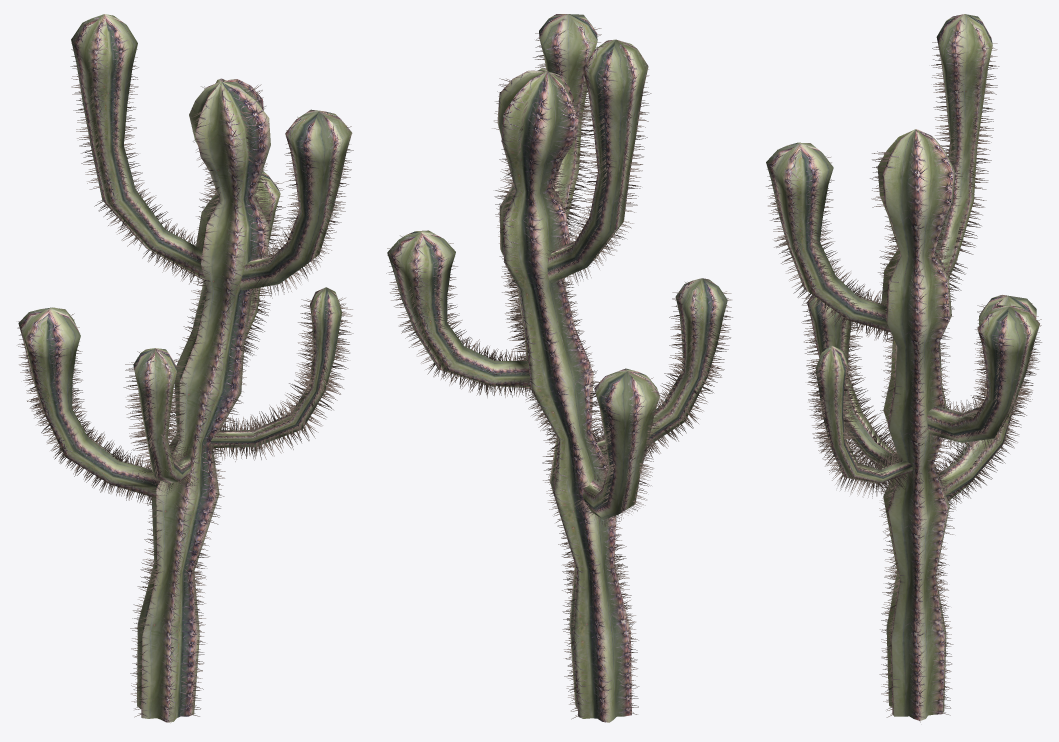
File: tree_cactus_a_03.fbx
The picture shows the model from 3 angles, left to right: view 1: azimuth 30°, elevation 25°; view 2: azimuth 150°, elevation 25°; view 3: azimuth 270°, elevation 25°; orthographic projection. The views are drawn at different scales.
Visible parts, largest first — view 1: Tree_0, Tree_1; view 2: Tree_0, Tree_1; view 3: Tree_0, Tree_1.
Part boxes in pixels (x1=…): Tree_0: x1=18, y1=14, x2=351, y2=722; Tree_1: x1=17, y1=43, x2=353, y2=722; Tree_0: x1=387, y1=14, x2=727, y2=722; Tree_1: x1=386, y1=27, x2=732, y2=720; Tree_0: x1=766, y1=14, x2=1039, y2=720; Tree_1: x1=766, y1=42, x2=1041, y2=722.
Bounding box in the file's own units: 0.682 × 0.6392 × 1.71.
Materials: 2 (2 with a texture image).
